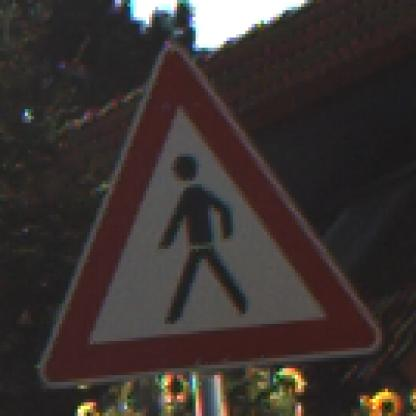crosswalk: (32, 44, 380, 393)
